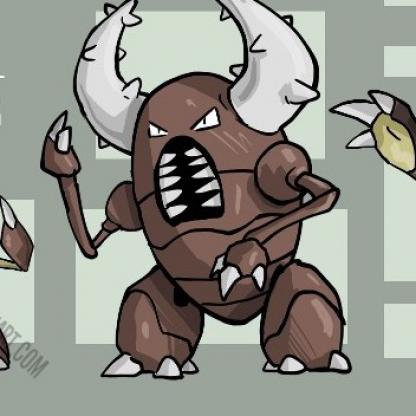Pinsir: (40, 1, 366, 397)
